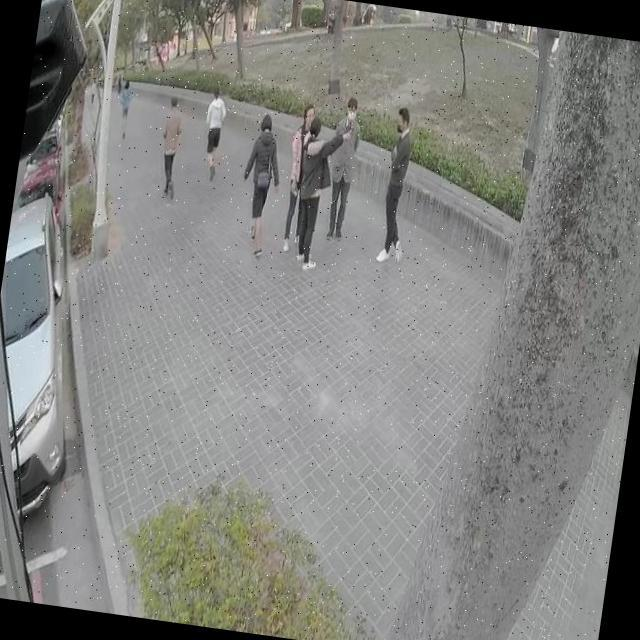person: (286, 110, 361, 278), (230, 108, 294, 266), (372, 106, 418, 262), (322, 96, 366, 244), (277, 96, 318, 249), (152, 96, 190, 202), (196, 80, 232, 180), (111, 77, 138, 138)
